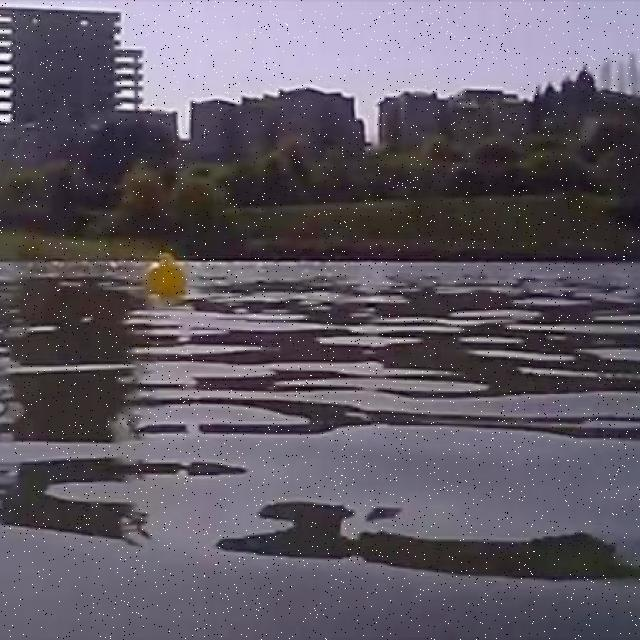buoy: (143, 251, 188, 298)
